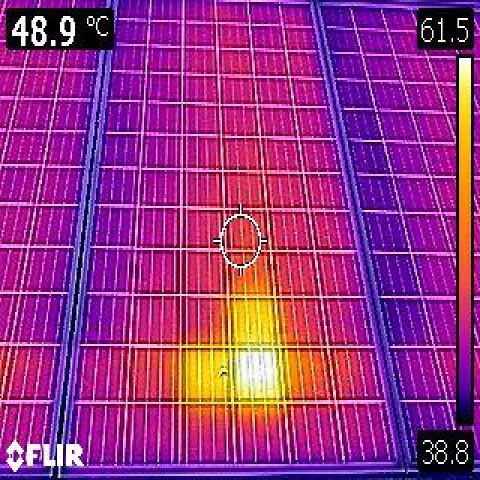fault: (229, 346, 286, 400), (186, 349, 228, 398), (232, 297, 275, 342)
